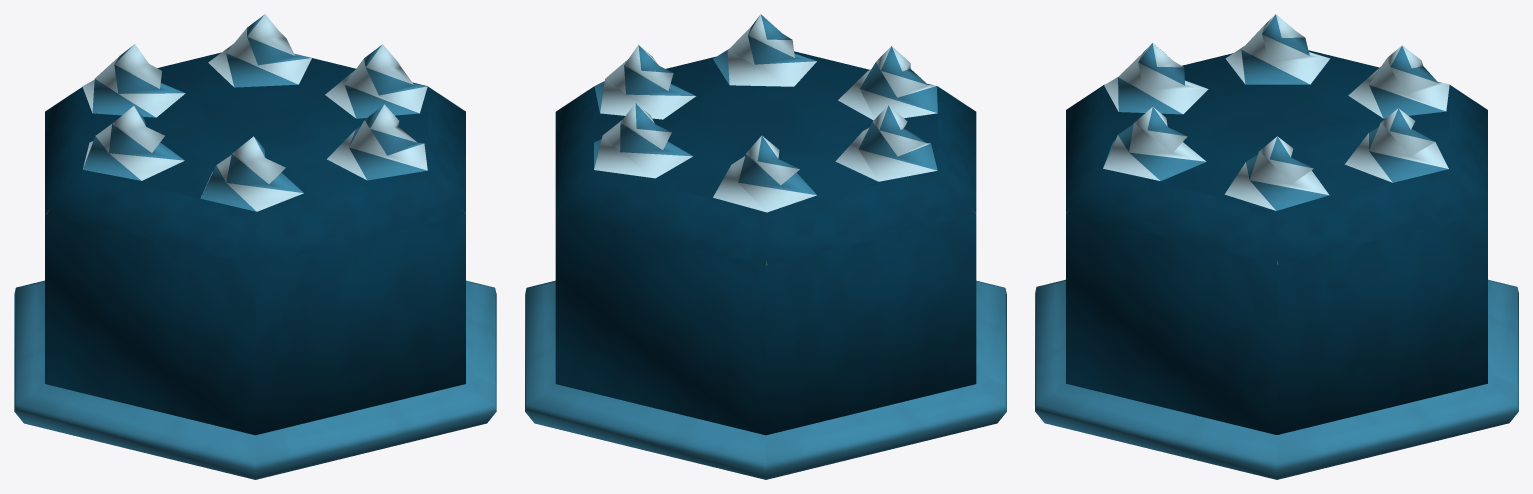
File: Cake_B_07.FBX
3 renders of one model, left to right at view 1: azimuth 30°, elevation 25°; view 2: azimuth 150°, elevation 25°; view 3: azimuth 270°, elevation 25°, orthographic.
Parts seen in each view (by area): view 1: Cake_2; view 2: Cake_2; view 3: Cake_2.
Boxes of the visible parts, x1,y1,x2,y2 form: Cake_2: (14, 14, 496, 479); Cake_2: (525, 14, 1006, 479); Cake_2: (1035, 14, 1518, 479).
Bounding box in the file's own units: 117 × 67.83 × 101.
